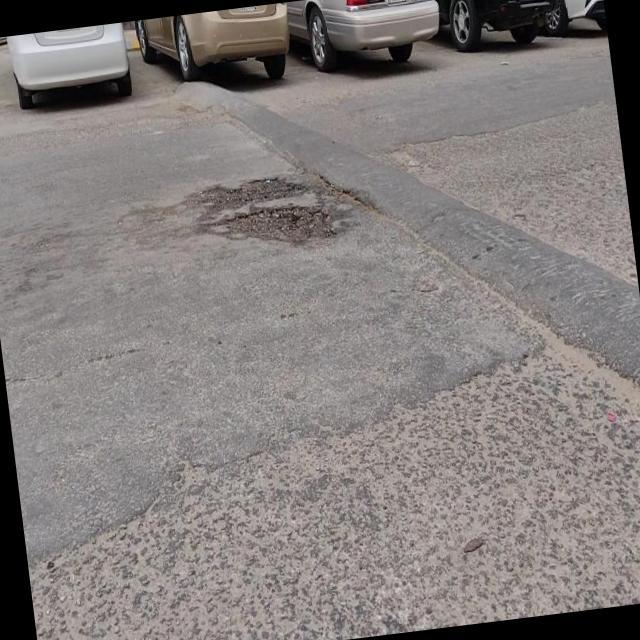Pothole: (200, 175, 332, 247)
